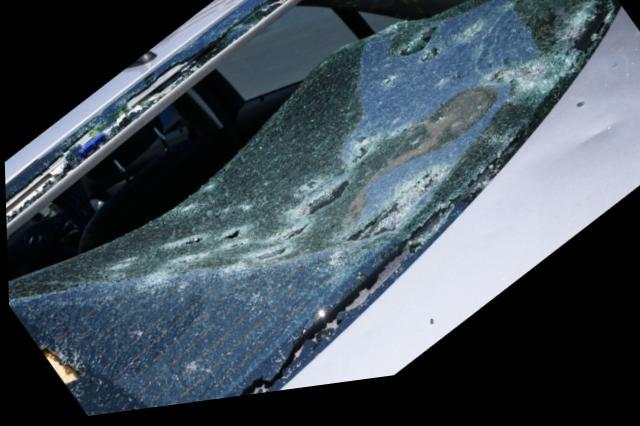dent: (568, 127, 624, 166)
glass shatter: (4, 0, 621, 418)
